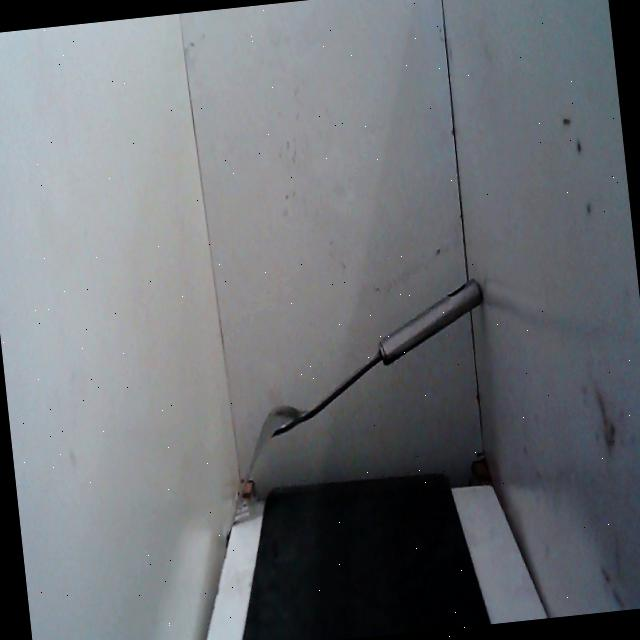metal: (198, 270, 512, 556)
